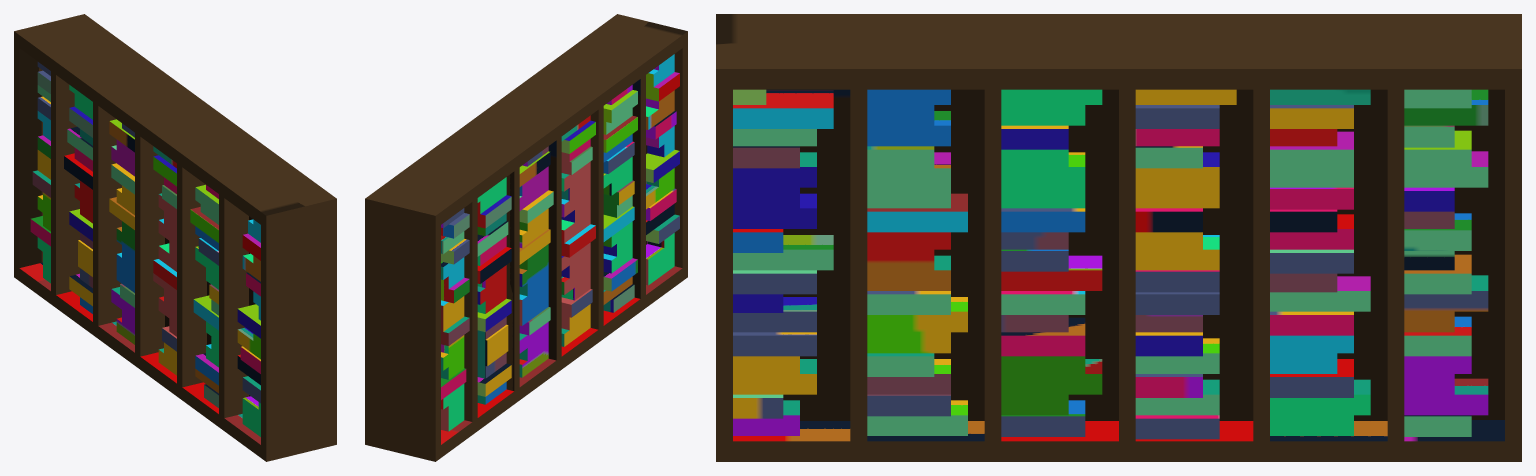
Rendered from BookDex.fbx.
The picture shows the model from 3 angles, left to right: view 1: azimuth 30°, elevation 25°; view 2: azimuth 150°, elevation 25°; view 3: azimuth 270°, elevation 25°; orthographic projection. The views are drawn at different scales.
Parts seen in each view (by area): view 1: High; view 2: High; view 3: High.
Part boxes in pixels (x1,y1,x2,y2): High: [14, 14, 336, 461]; High: [365, 14, 687, 461]; High: [716, 14, 1521, 461].
Size of the model in its own units: 3 by 10 by 18.58.
Materials: 1 (1 with a texture image).
